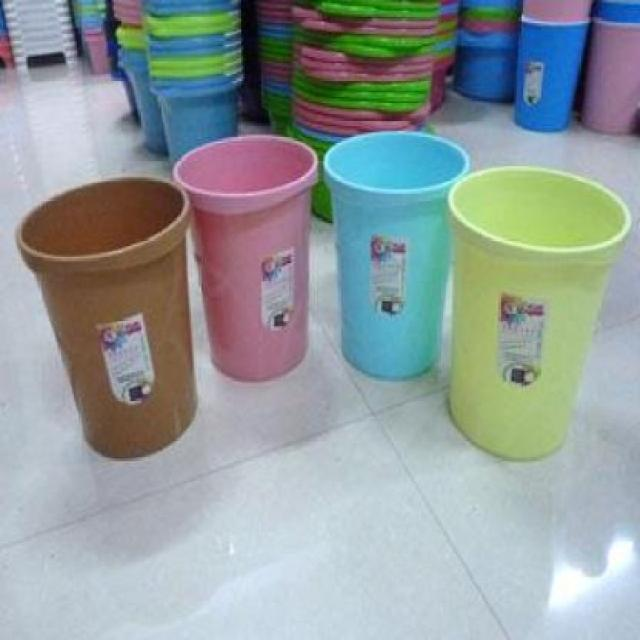dustbin: (446, 164, 635, 466), (12, 172, 202, 465), (323, 130, 472, 384), (174, 134, 321, 383)
